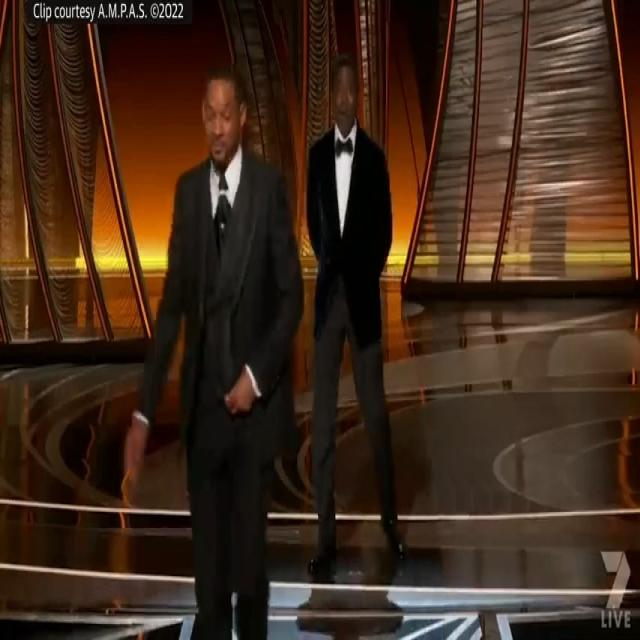non-fight: (104, 40, 428, 640)
